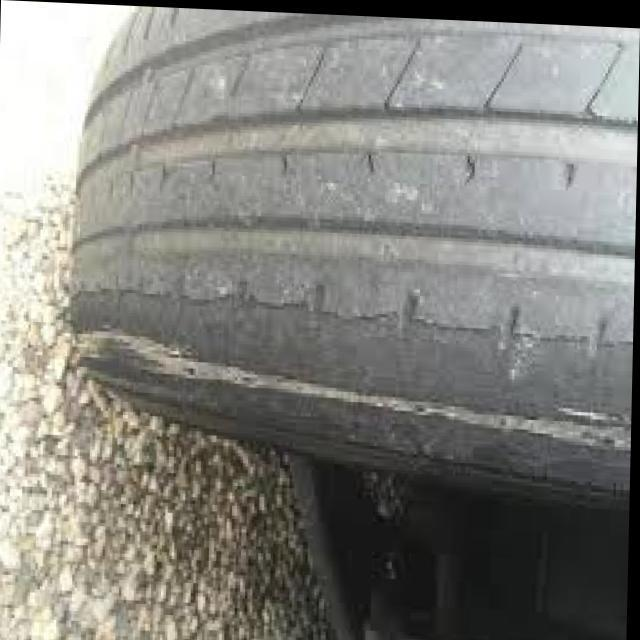Flat spots: (86, 58, 635, 352)
